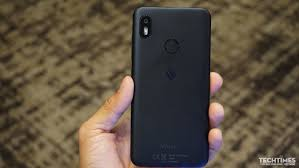vsmart: (128, 6, 213, 168)
